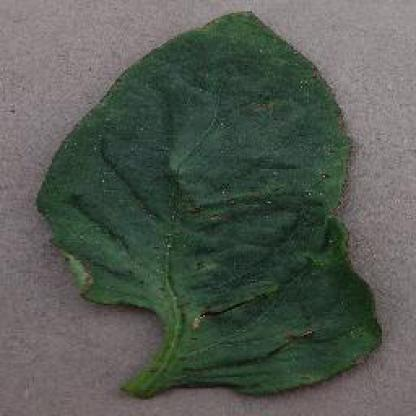bad leaf: (33, 10, 373, 414)
